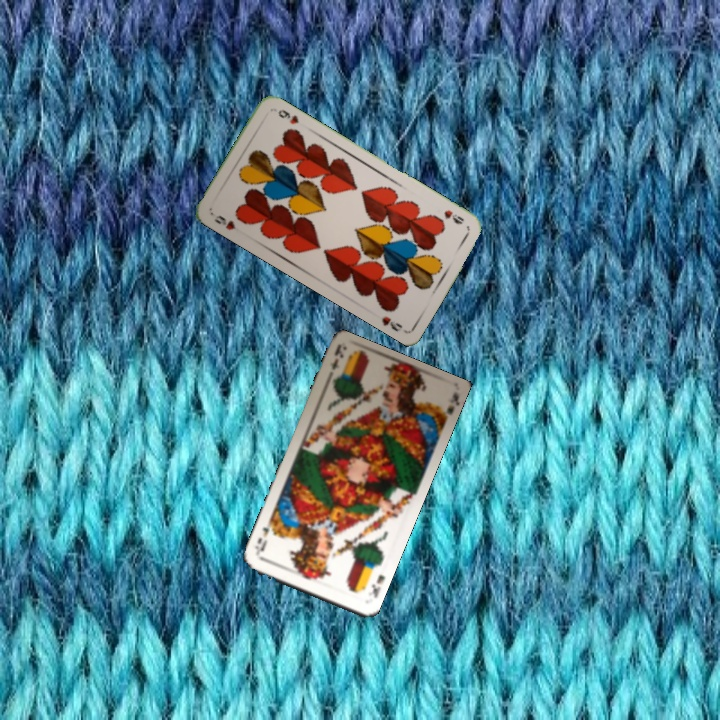EK: (322, 343, 346, 384), (367, 570, 387, 601)
H9: (210, 211, 238, 233), (440, 206, 467, 227)
